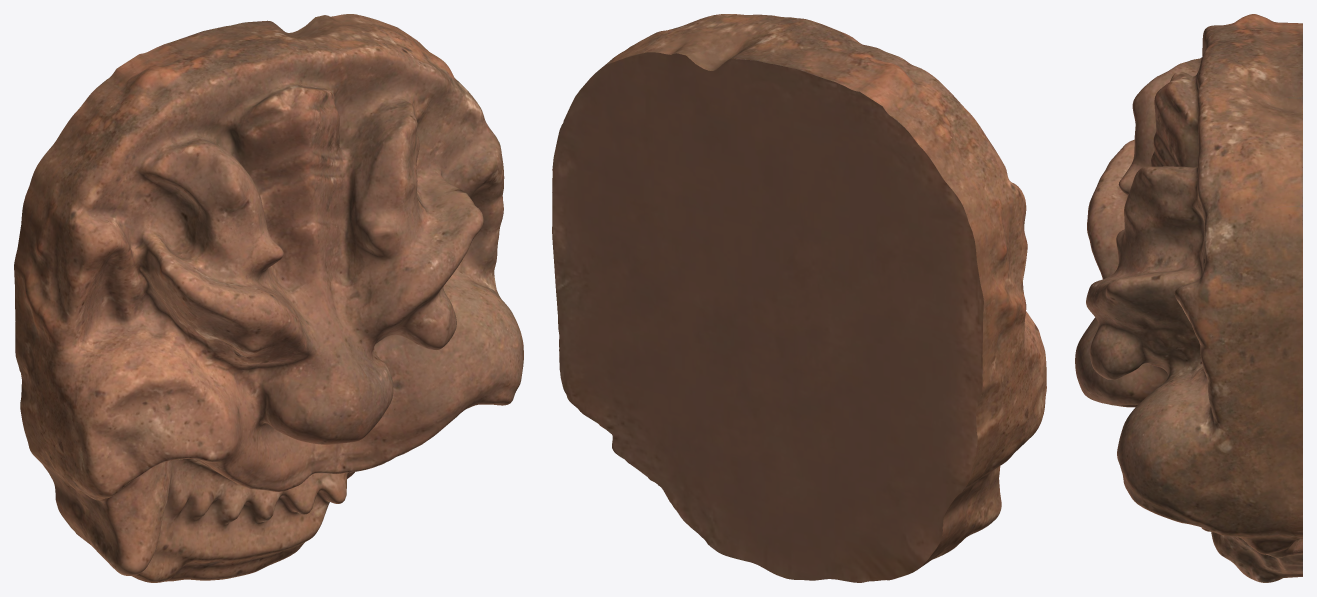
The model's file is MysonMuseum_KALA1_final.glb.
3 views of the same model, side by side, from view 1: azimuth 30°, elevation 25°; view 2: azimuth 150°, elevation 25°; view 3: azimuth 270°, elevation 25° (orthographic). The views are drawn at different scales.
Size of the model in its own units: 0.2453 by 0.277 by 0.1119.
1 material, 1 textured.
